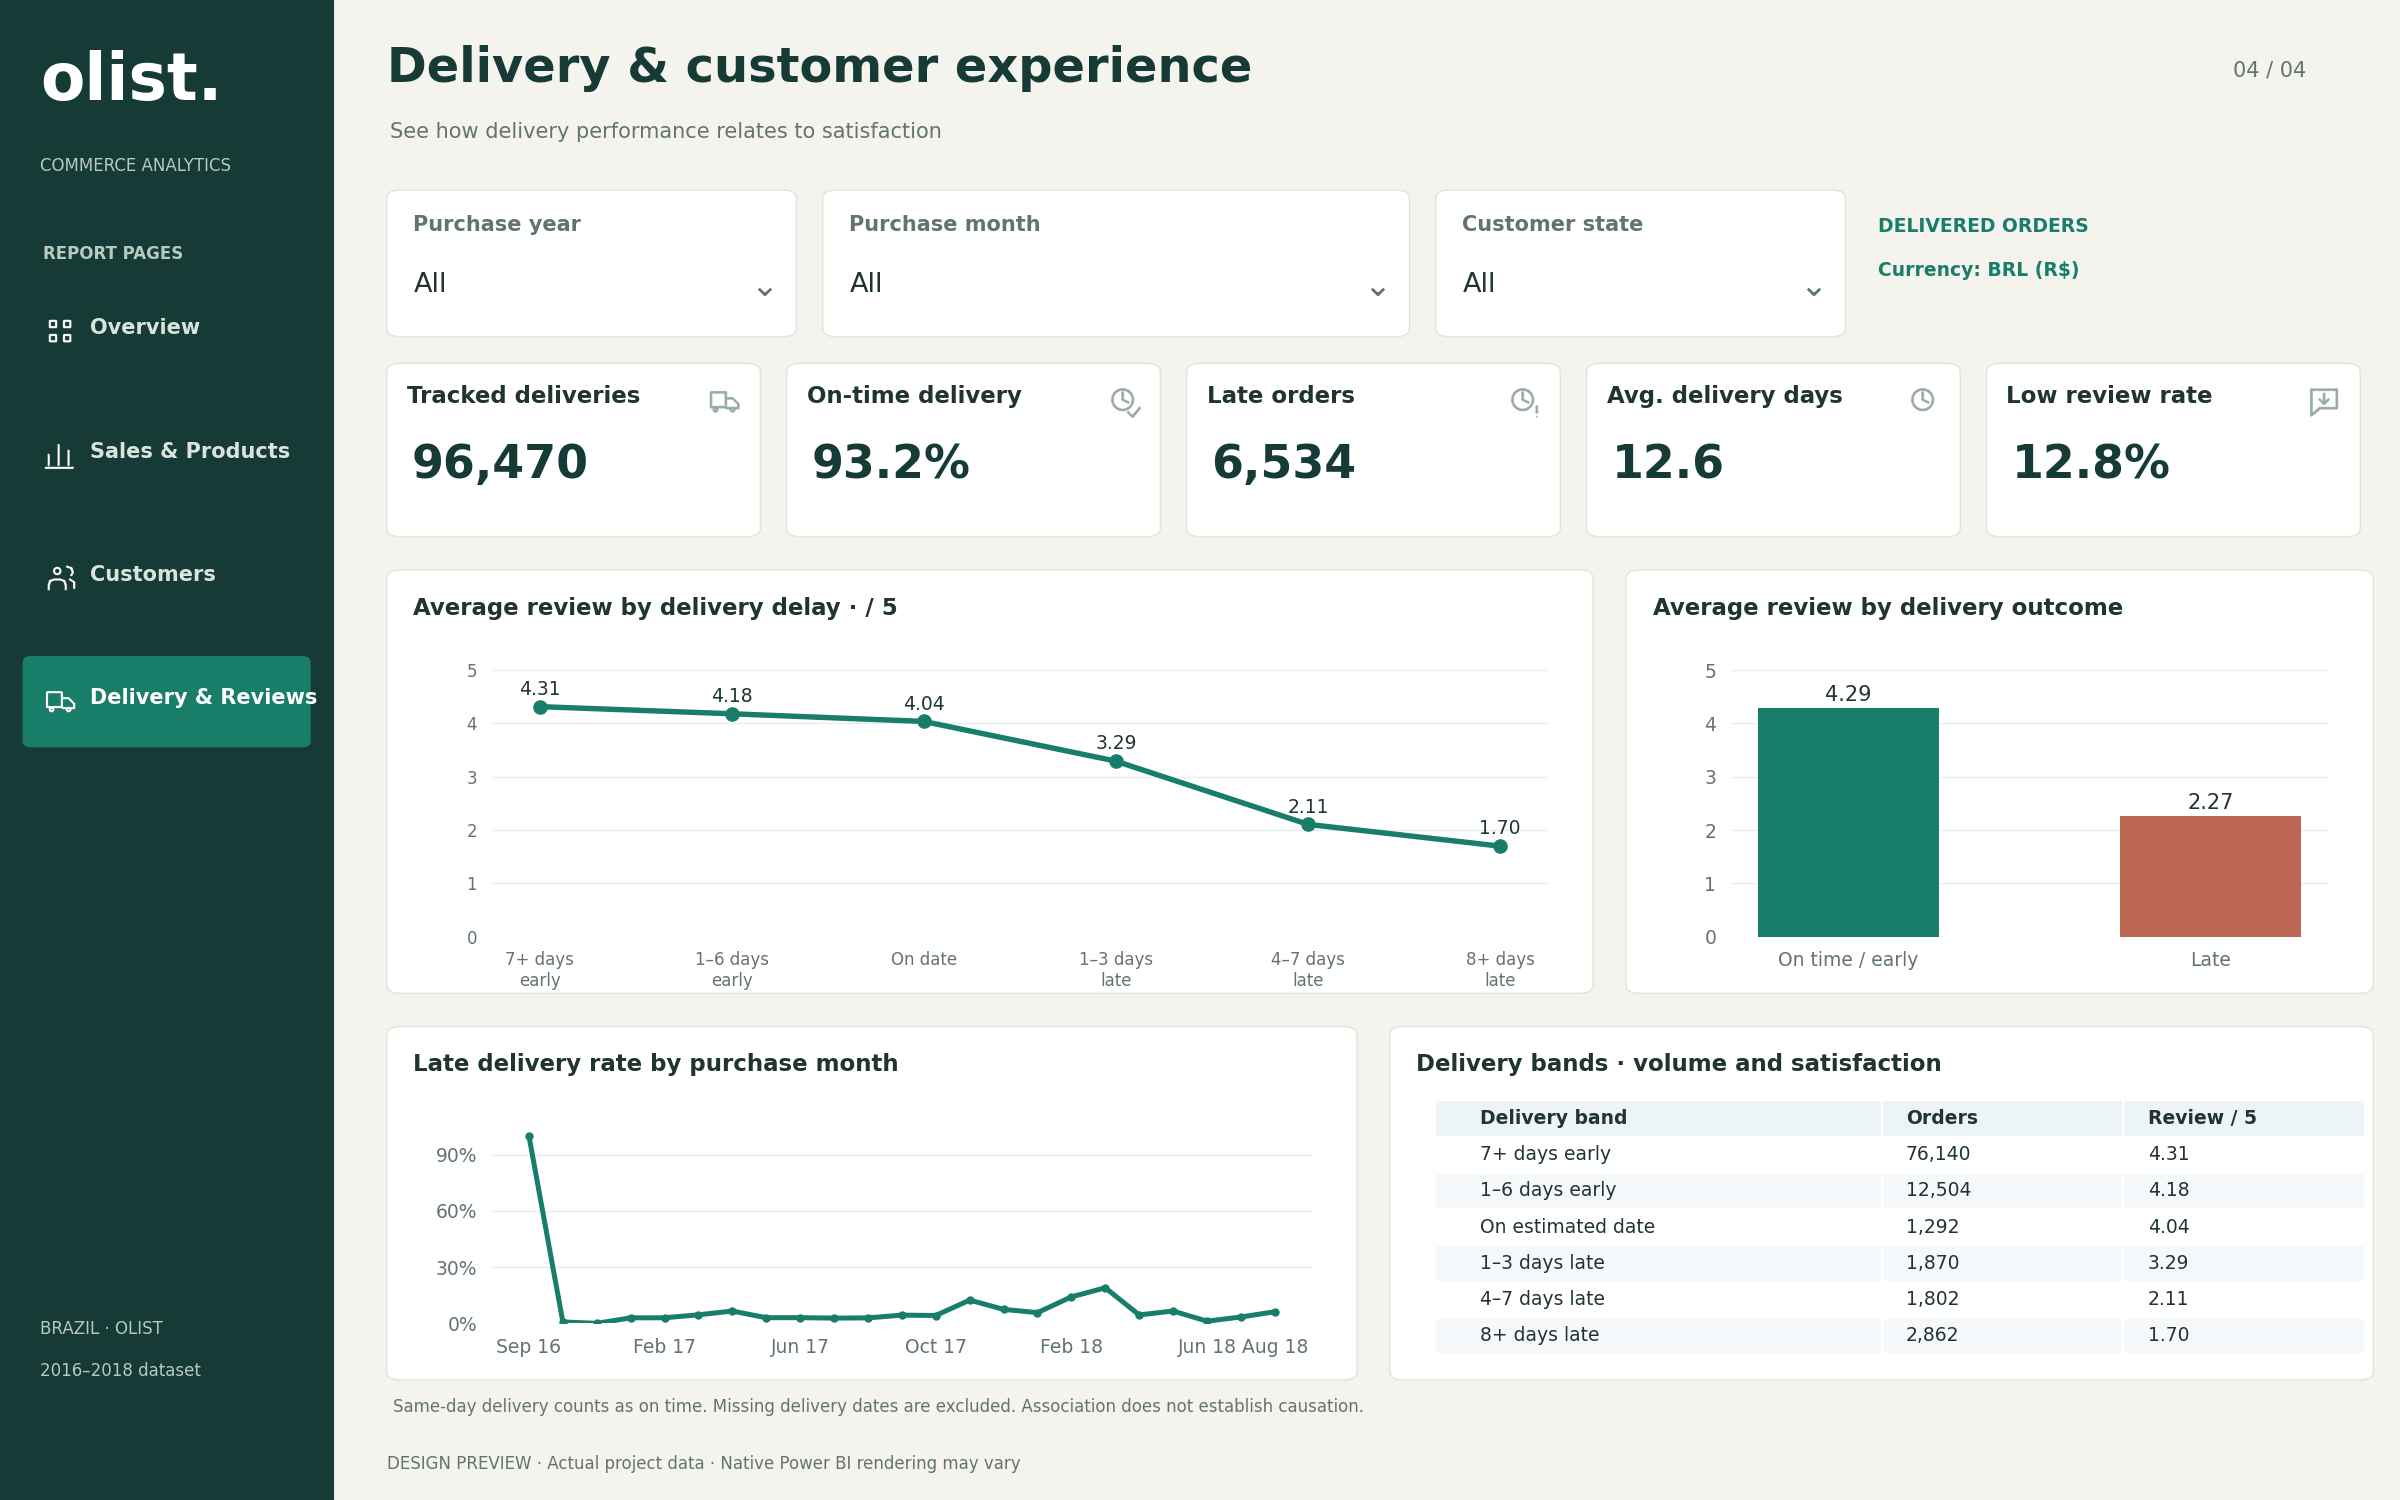

What the dashboard file says about the page in this screenshot:
{"tool":"powerbi","page":{"name":"Delivery & Reviews","canvas":[1440,900],"ordinal":3},"visuals":[{"type":"textbox","box":[0,0,200,900],"z":79},{"type":"textbox","box":[24,22,135,68],"z":80},{"type":"textbox","box":[24,94,140,38],"z":81},{"type":"actionButton","box":[14,172,172,54],"z":82},{"type":"actionButton","box":[14,246,172,54],"z":83},{"type":"actionButton","box":[14,320,172,54],"z":84},{"type":"actionButton","box":[14,394,172,54],"z":85},{"type":"textbox","box":[24,790,142,78],"z":86},{"type":"textbox","box":[232,18,1022.8,58],"z":87},{"type":"textbox","box":[234,72,1022.8,36],"z":88},{"type":"slicer","title":"Purchase Year","fields":{"Values":["Date.Year"]},"box":[232,114,245.9,88],"z":89},{"type":"slicer","title":"Purchase Month","fields":{"Values":["Date.Month"]},"box":[493.6,114,352.1,88],"z":90},{"type":"slicer","title":"Customer state","fields":{"Values":["Orders.State"]},"box":[861.4,114,245.9,88],"z":91},{"type":"textbox","box":[1127,114,277.4,88],"z":92},{"type":"textbox","box":[232,854,1172.3,38],"z":93},{"type":"card","fields":{"Values":["Orders.Card · Measurable Deliveries"]},"box":[232,218,224.2,104],"z":94},{"type":"card","fields":{"Values":["Orders.Card · On-time Rate"]},"box":[472,218,224.2,104],"z":95},{"type":"card","fields":{"Values":["Orders.Card · Late Orders"]},"box":[712,218,224.2,104],"z":96},{"type":"card","fields":{"Values":["Orders.Card · Average Delivery Days"]},"box":[951.9,218,224.2,104],"z":97},{"type":"card","fields":{"Values":["Orders.Card · Low-review Rate"]},"box":[1191.9,218,224.2,104],"z":98},{"type":"lineChart","title":"Average review by delivery delay · / 5","fields":{"Category":["Orders.Delay Band"],"Y":["Orders.Average Review Score"]},"box":[232,342,723.9,254],"z":99},{"type":"clusteredColumnChart","title":"Average review by delivery outcome","fields":{"Category":["Orders.Delivery Performance"],"Y":["Orders.Average Review Score"]},"box":[975.5,342,448.5,254],"z":100},{"type":"textbox","box":[244,231,172.2,26],"z":101},{"type":"lineChart","title":"Late delivery rate by purchase month","fields":{"Category":["Date.Month Start"],"Y":["Orders.Late Delivery Rate"]},"box":[232,616,582.2,212],"z":101},{"type":"image","box":[424.2,231,20,20],"z":102},{"type":"tableEx","title":"Delivery bands · volume and satisfaction","fields":{"Values":["Orders.Delay Band","Orders.Measurable Deliveries","Orders.Average Review Score","Orders.Low-review Rate"]},"box":[833.9,616,590.1,212],"z":102},{"type":"textbox","box":[484,231,172.2,26],"z":103},{"type":"textbox","box":[235.9,832,1140.9,22],"z":103},{"type":"image","box":[664.2,231,20,20],"z":104},{"type":"textbox","box":[724,231,172.2,26],"z":105},{"type":"image","box":[904.2,231,20,20],"z":106},{"type":"textbox","box":[963.9,231,172.2,26],"z":107},{"type":"image","box":[1144.2,231,20,20],"z":108},{"type":"textbox","box":[1203.9,231,172.2,26],"z":109},{"type":"image","box":[1384.1,231,20,20],"z":110},{"type":"textbox","box":[26,147,150,22],"z":111},{"type":"textbox","box":[1340,36,80,26],"z":112}]}

Visuals, with their boxes on the page's 1440x900 design canvas (x1, y1, x2, y2). These are canvas units, not pixel positions in the 2400x1500 screenshot, which may show the page scaled, cropped or inside an application window:
textbox: locate(0, 0, 200, 900)
textbox: locate(24, 22, 159, 90)
textbox: locate(24, 94, 164, 132)
actionButton: locate(14, 172, 186, 226)
actionButton: locate(14, 246, 186, 300)
actionButton: locate(14, 320, 186, 374)
actionButton: locate(14, 394, 186, 448)
textbox: locate(24, 790, 166, 868)
textbox: locate(232, 18, 1255, 76)
textbox: locate(234, 72, 1257, 108)
"Purchase Year" slicer: locate(232, 114, 478, 202)
"Purchase Month" slicer: locate(494, 114, 846, 202)
"Customer state" slicer: locate(861, 114, 1107, 202)
textbox: locate(1127, 114, 1404, 202)
textbox: locate(232, 854, 1404, 892)
card - Orders.Card · Measurable Deliveries: locate(232, 218, 456, 322)
card - Orders.Card · On-time Rate: locate(472, 218, 696, 322)
card - Orders.Card · Late Orders: locate(712, 218, 936, 322)
card - Orders.Card · Average Delivery Days: locate(952, 218, 1176, 322)
card - Orders.Card · Low-review Rate: locate(1192, 218, 1416, 322)
"Average review by delivery delay · / 5" lineChart: locate(232, 342, 956, 596)
"Average review by delivery outcome" clusteredColumnChart: locate(976, 342, 1424, 596)
textbox: locate(244, 231, 416, 257)
"Late delivery rate by purchase month" lineChart: locate(232, 616, 814, 828)
image: locate(424, 231, 444, 251)
"Delivery bands · volume and satisfaction" tableEx: locate(834, 616, 1424, 828)
textbox: locate(484, 231, 656, 257)
textbox: locate(236, 832, 1377, 854)
image: locate(664, 231, 684, 251)
textbox: locate(724, 231, 896, 257)
image: locate(904, 231, 924, 251)
textbox: locate(964, 231, 1136, 257)
image: locate(1144, 231, 1164, 251)
textbox: locate(1204, 231, 1376, 257)
image: locate(1384, 231, 1404, 251)
textbox: locate(26, 147, 176, 169)
textbox: locate(1340, 36, 1420, 62)
